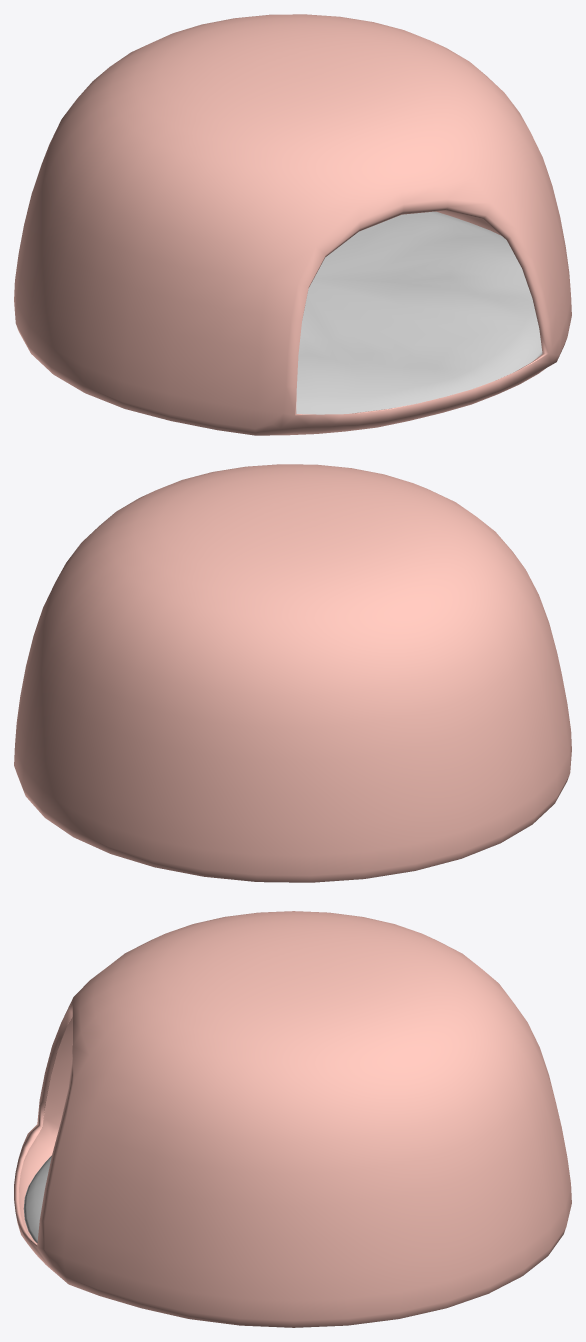
File: Cat Bed.fbx
3 renders of one model, top to bottom at view 1: azimuth 30°, elevation 25°; view 2: azimuth 150°, elevation 25°; view 3: azimuth 270°, elevation 25°, orthographic.
Parts seen in each view (by area): view 1: pSphere1, pCylinder2; view 2: pSphere1; view 3: pSphere1, pCylinder2.
Part boxes in pixels (x1,y1,x2,y2): pSphere1: (14,14,571,435); pCylinder2: (296,211,542,414); pSphere1: (14,464,571,882); pSphere1: (14,911,571,1327); pCylinder2: (23,1155,51,1242).
Size of the model in its own units: 10.92 by 5.79 by 10.95.
Materials: 1 (1 with a texture image).
